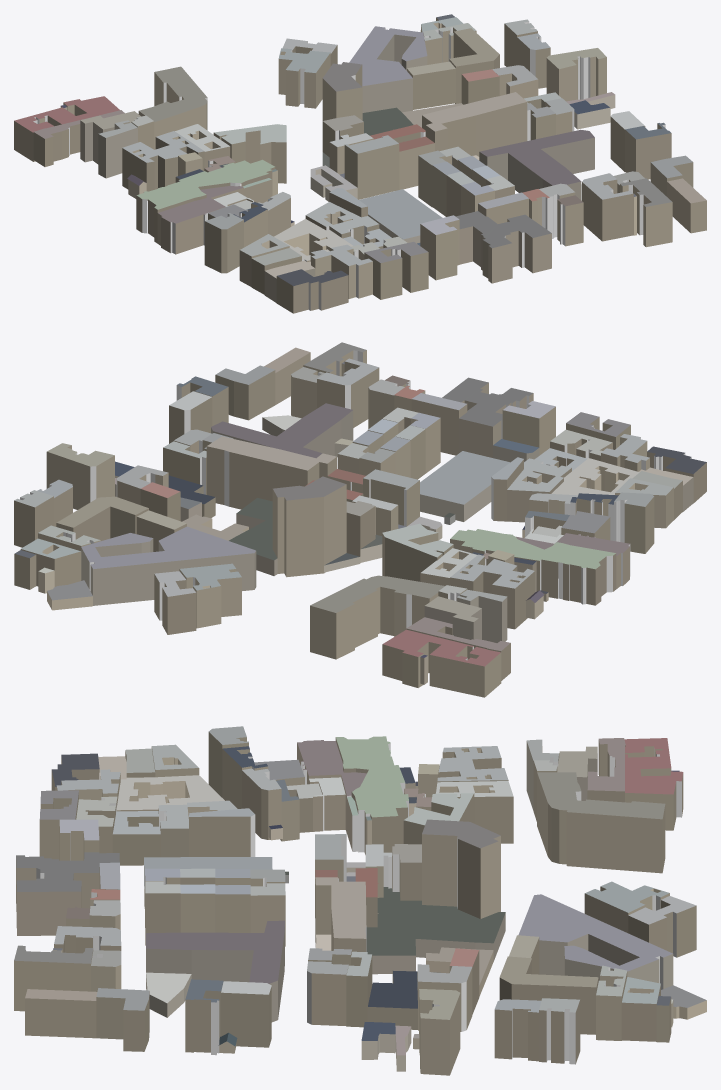
The picture shows the model from 3 angles, top to bottom: view 1: azimuth 30°, elevation 25°; view 2: azimuth 150°, elevation 25°; view 3: azimuth 270°, elevation 25°; orthographic projection. The views are drawn at different scales.
Visible parts, largest first — view 1: tuile; view 2: tuile; view 3: tuile.
Part boxes in pixels (box(x1,y1,x2,y2)): tuile: box(14, 14, 706, 313); tuile: box(14, 342, 706, 697); tuile: box(14, 726, 706, 1075).
Bounding box in the file's own units: 285 × 41.65 × 277.
